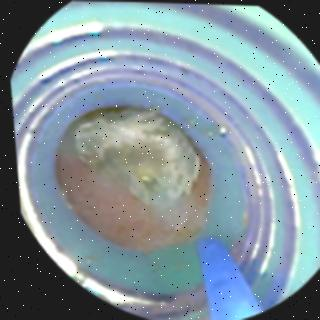fiber: (193, 239, 252, 320)
stone: (72, 111, 194, 204)
